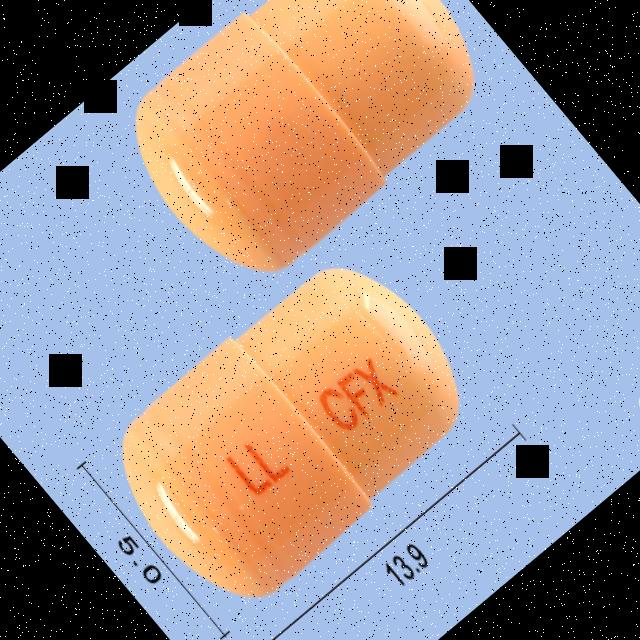Cefaxamin Cap: (81, 226, 502, 631)
